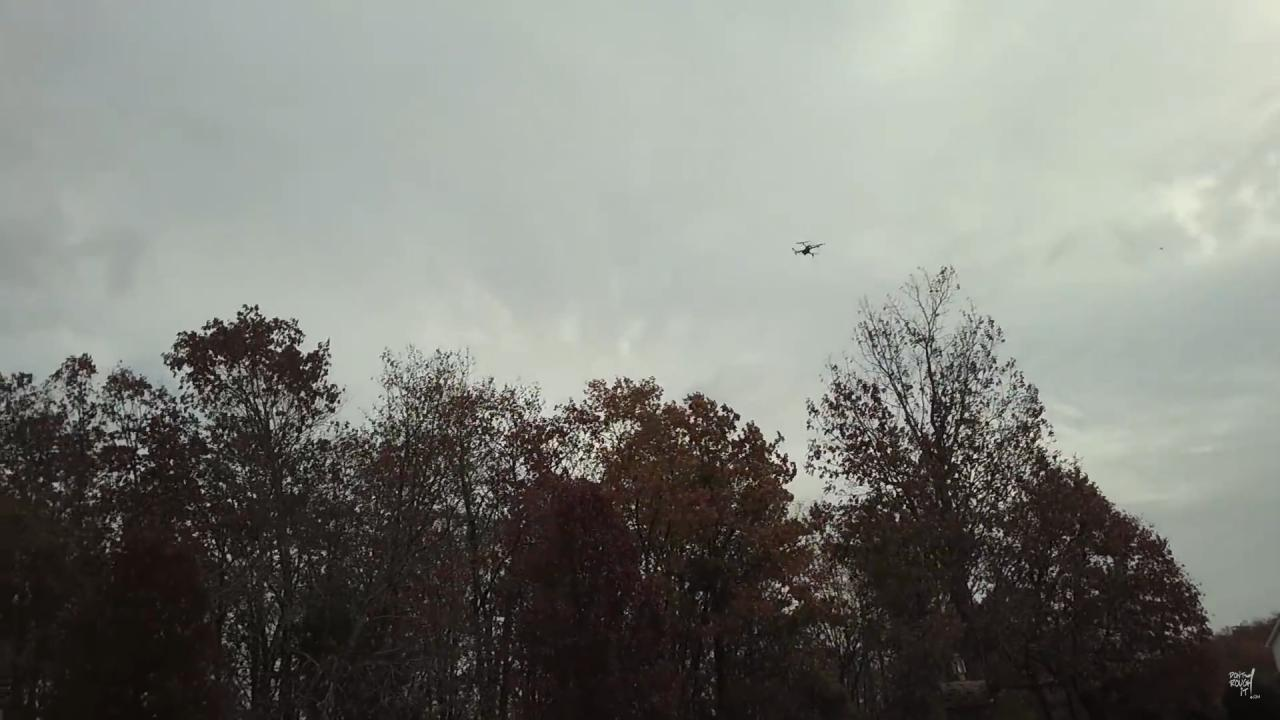Drone: (787, 233, 829, 262)
